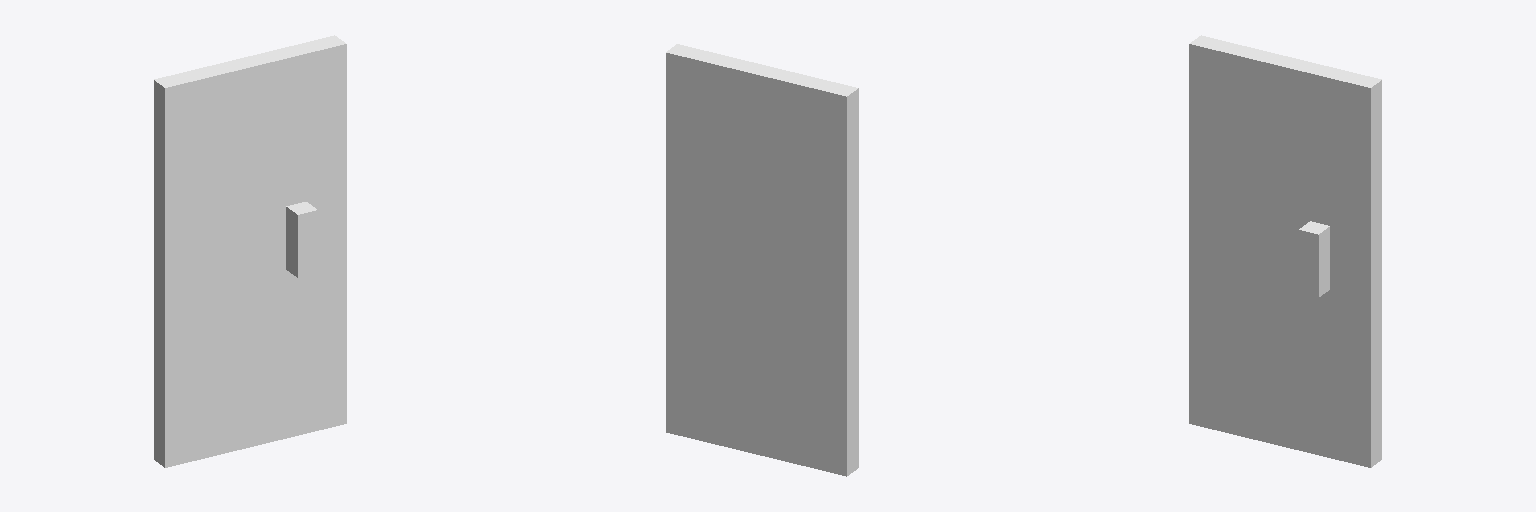
The model's file is WardrobeDoorLeft.obj.
The picture shows the model from 3 angles: view 1: azimuth 30°, elevation 25°; view 2: azimuth 150°, elevation 25°; view 3: azimuth 330°, elevation 25°; orthographic projection.
Visible parts, largest first — view 1: object 1; view 2: object 1; view 3: object 1.
Boxes of the visible parts, x1=… form: object 1: x1=154, y1=35, x2=346, y2=467; object 1: x1=666, y1=44, x2=858, y2=476; object 1: x1=1189, y1=35, x2=1381, y2=467.
Size of the model in its own units: 0.9 by 1.8 by 0.2.